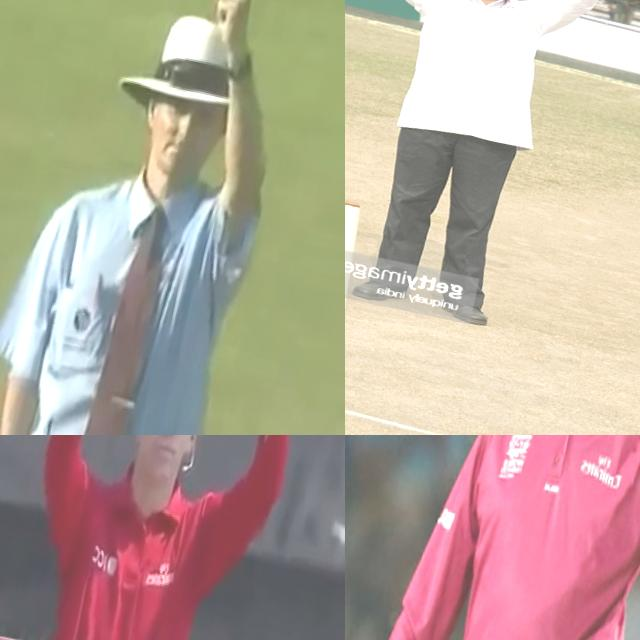No_Ball: (352, 435, 640, 640)
Out: (0, 0, 324, 435)
Six: (345, 0, 640, 343), (5, 435, 340, 640)
